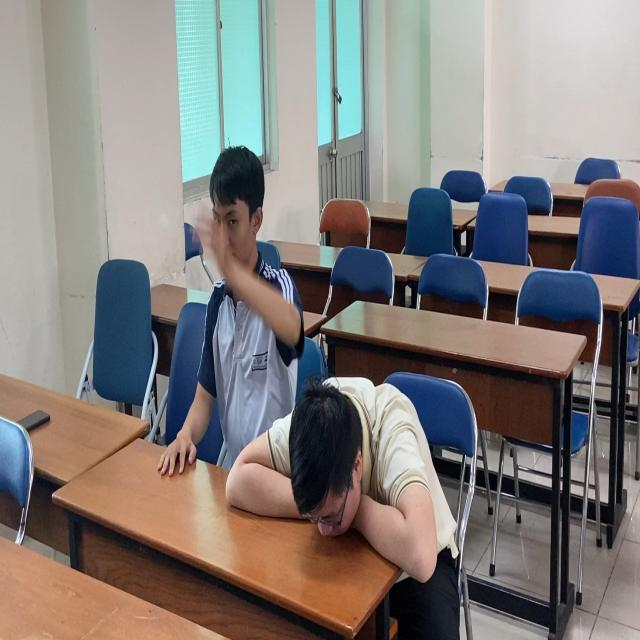sleep: (225, 373, 441, 585)
